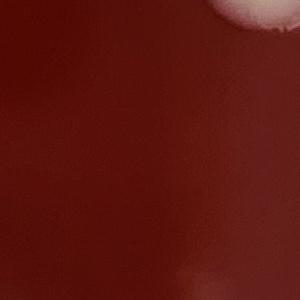colony: (199, 0, 300, 52)
